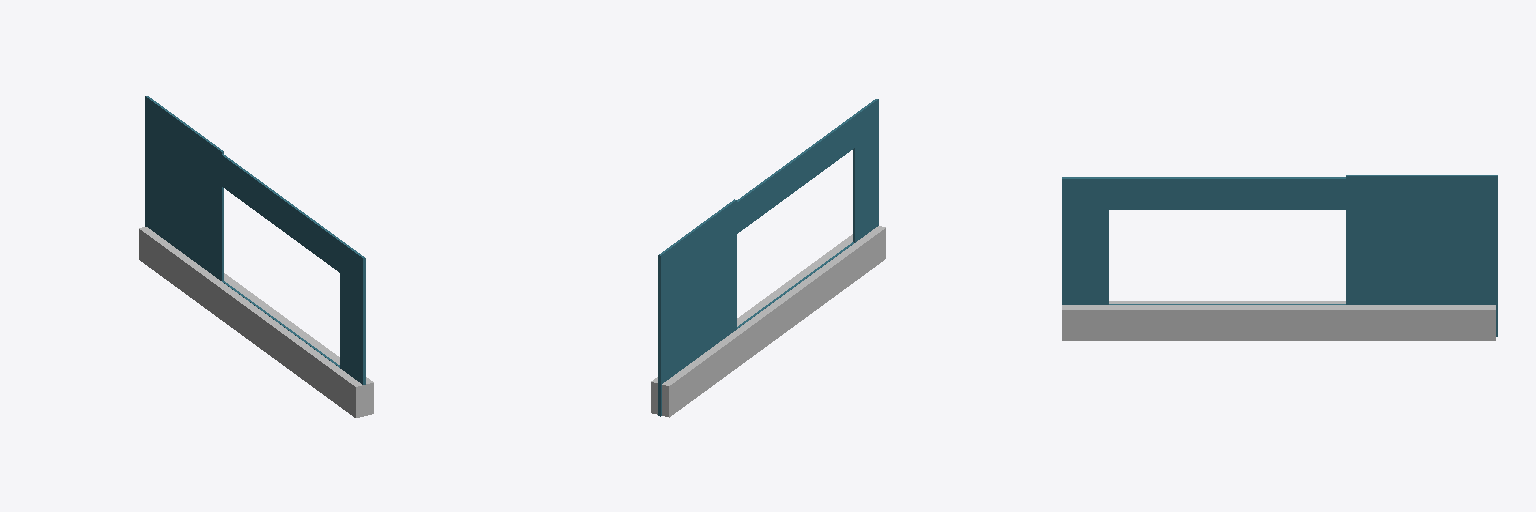
The model's file is dindingsampingkiri.obj.
The picture shows the model from 3 angles: view 1: azimuth 30°, elevation 25°; view 2: azimuth 150°, elevation 25°; view 3: azimuth 270°, elevation 25°; orthographic projection.
Visible parts, largest first — view 1: Cube.004_Cube.093_Cube.004_Cube.002_Cube.004_Cube.093_Cube.004_C, Cube_Cube.008_Cube_Cube.005, Cube.080_Cube.081_Cube.080_Cube.002_Cube.080_Cube.081_Cube.080_C, Cube.082_Cube.083_Cube.082_Cube.002_Cube.082_Cube.083_Cube.082_C; view 2: Cube.004_Cube.093_Cube.004_Cube.002_Cube.004_Cube.093_Cube.004_C, Cube_Cube.008_Cube_Cube.005, Cube.080_Cube.081_Cube.080_Cube.002_Cube.080_Cube.081_Cube.080_C, Cube.082_Cube.083_Cube.082_Cube.002_Cube.082_Cube.083_Cube.082_C; view 3: Cube.004_Cube.093_Cube.004_Cube.002_Cube.004_Cube.093_Cube.004_C, Cube_Cube.008_Cube_Cube.005, Cube.080_Cube.081_Cube.080_Cube.002_Cube.080_Cube.081_Cube.080_C, Cube.082_Cube.083_Cube.082_Cube.002_Cube.082_Cube.083_Cube.082_C.
Part boxes in pixels (bbox=[...]): Cube.004_Cube.093_Cube.004_Cube.002_Cube.004_Cube.093_Cube.004_C: bbox=[145, 96, 223, 280]; Cube_Cube.008_Cube_Cube.005: bbox=[139, 227, 373, 417]; Cube.080_Cube.081_Cube.080_Cube.002_Cube.080_Cube.081_Cube.080_C: bbox=[220, 154, 364, 289]; Cube.082_Cube.083_Cube.082_Cube.002_Cube.082_Cube.083_Cube.082_C: bbox=[340, 242, 365, 384]; Cube.004_Cube.093_Cube.004_Cube.002_Cube.004_Cube.093_Cube.004_C: bbox=[658, 199, 736, 416]; Cube_Cube.008_Cube_Cube.005: bbox=[651, 226, 885, 417]; Cube.080_Cube.081_Cube.080_Cube.002_Cube.080_Cube.081_Cube.080_C: bbox=[735, 99, 877, 234]; Cube.082_Cube.083_Cube.082_Cube.002_Cube.082_Cube.083_Cube.082_C: bbox=[853, 99, 878, 242]; Cube.004_Cube.093_Cube.004_Cube.002_Cube.004_Cube.093_Cube.004_C: bbox=[1346, 175, 1497, 336]; Cube_Cube.008_Cube_Cube.005: bbox=[1062, 301, 1495, 340]; Cube.080_Cube.081_Cube.080_Cube.002_Cube.080_Cube.081_Cube.080_C: bbox=[1062, 177, 1345, 209]; Cube.082_Cube.083_Cube.082_Cube.002_Cube.082_Cube.083_Cube.082_C: bbox=[1062, 179, 1108, 304].
Bounding box in the file's own units: 2.46 × 20.4 × 50.03.